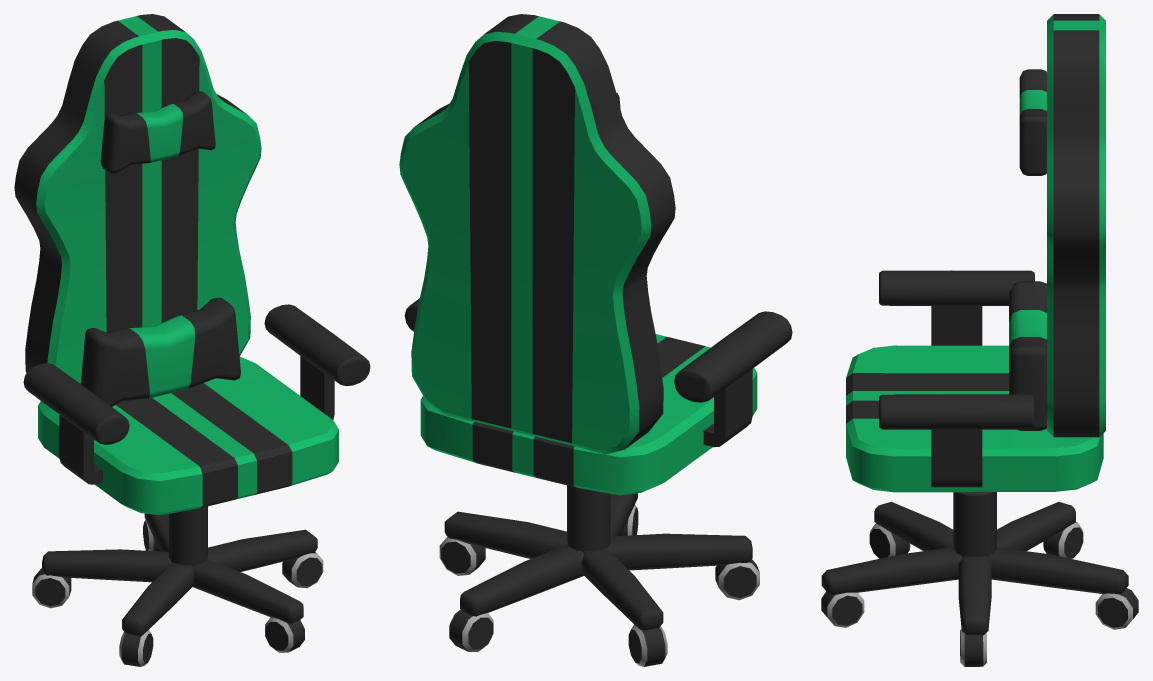
File: Chair_6V.fbx
3 views of the same model, side by side, from view 1: azimuth 30°, elevation 25°; view 2: azimuth 150°, elevation 25°; view 3: azimuth 270°, elevation 25° (orthographic). The views are drawn at different scales.
Parts seen in each view (by area): view 1: Chair_6V, Chair_6V Tire_4, Chair_6V Tire_2, Chair_6V Tire_1, Chair_6V Tire_5; view 2: Chair_6V, Chair_6V Tire_3, Chair_6V Tire_5, Chair_6V Tire_4, Chair_6V Tire_2; view 3: Chair_6V, Chair_6V Tire_3, Chair_6V Tire_1, Chair_6V Tire_4, Chair_6V Tire_5, Chair_6V Tire_2.
Part boxes in pixels (x1,y1,x2,y2): Chair_6V: [14, 14, 370, 636]; Chair_6V Tire_4: [32, 568, 71, 608]; Chair_6V Tire_2: [282, 552, 323, 588]; Chair_6V Tire_1: [265, 617, 304, 652]; Chair_6V Tire_5: [119, 630, 153, 666]; Chair_6V: [399, 14, 792, 630]; Chair_6V Tire_3: [449, 609, 493, 652]; Chair_6V Tire_5: [715, 559, 759, 600]; Chair_6V Tire_4: [628, 624, 667, 666]; Chair_6V Tire_2: [439, 537, 485, 575]; Chair_6V: [821, 14, 1128, 635]; Chair_6V Tire_3: [1095, 588, 1138, 629]; Chair_6V Tire_1: [821, 591, 864, 627]; Chair_6V Tire_4: [1043, 522, 1083, 558]; Chair_6V Tire_5: [869, 523, 910, 558]; Chair_6V Tire_2: [960, 629, 986, 666].
Size of the model in its own units: 0.7971 by 1.52 by 0.7532.
